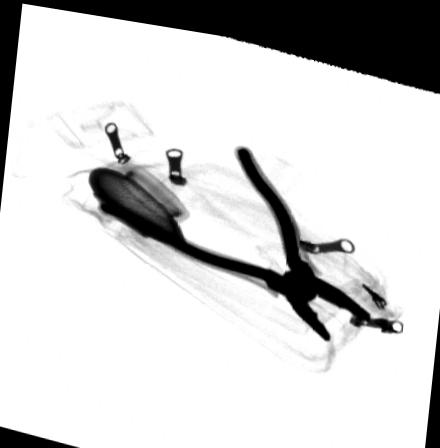Pliers: (96, 137, 372, 333)
